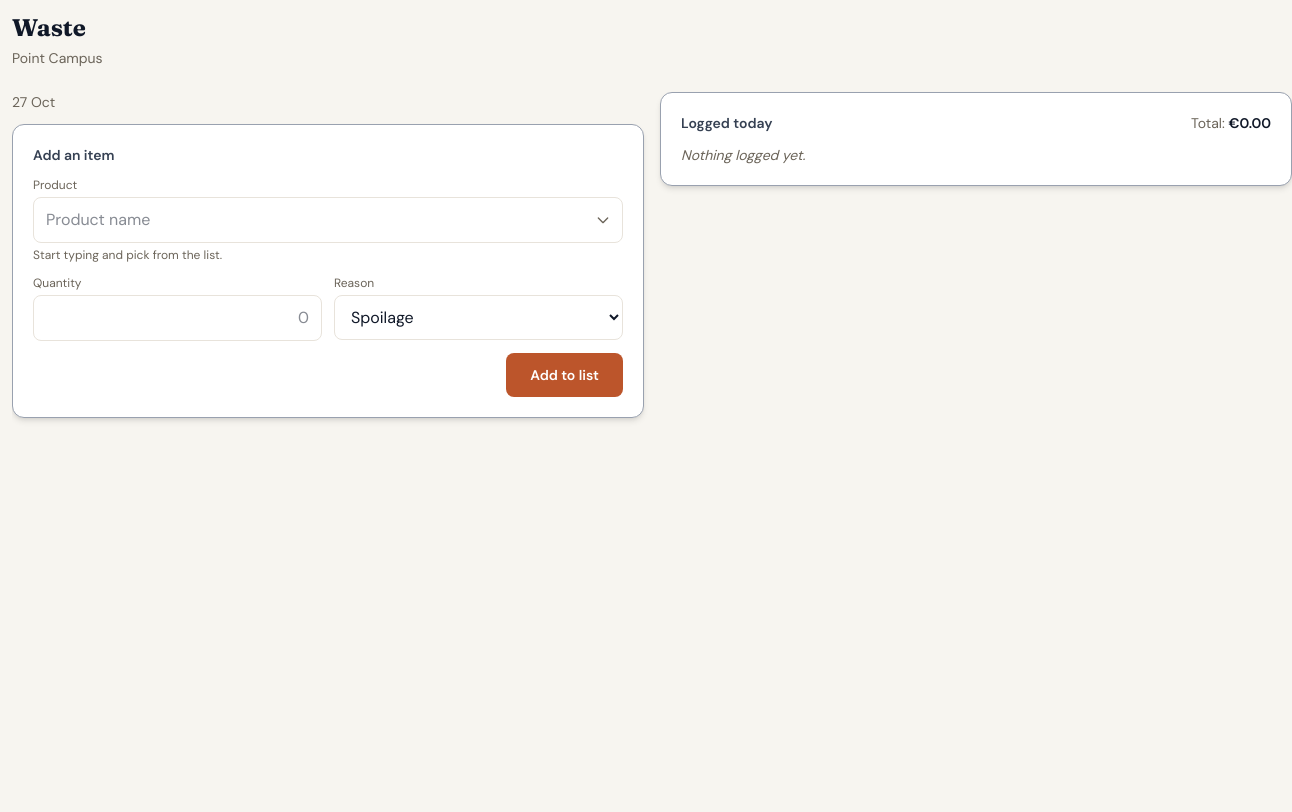
it: picking a product › clears the product once it is on the list
In the dropdown with placeholder "Product name": [328, 220] box [33,197,623,243], type "Tomatoes"
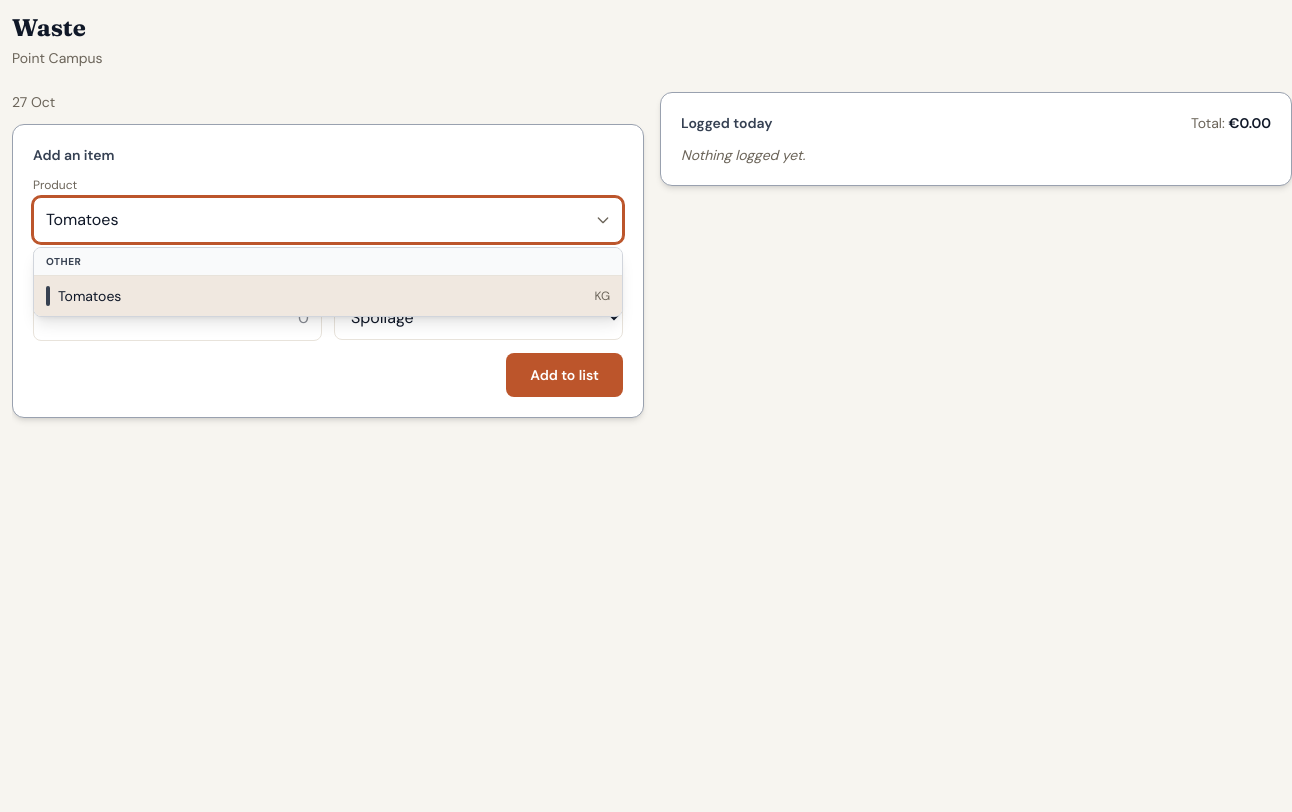
Click the option "Tomatoes KG": [90, 296] box [34,276,622,316]
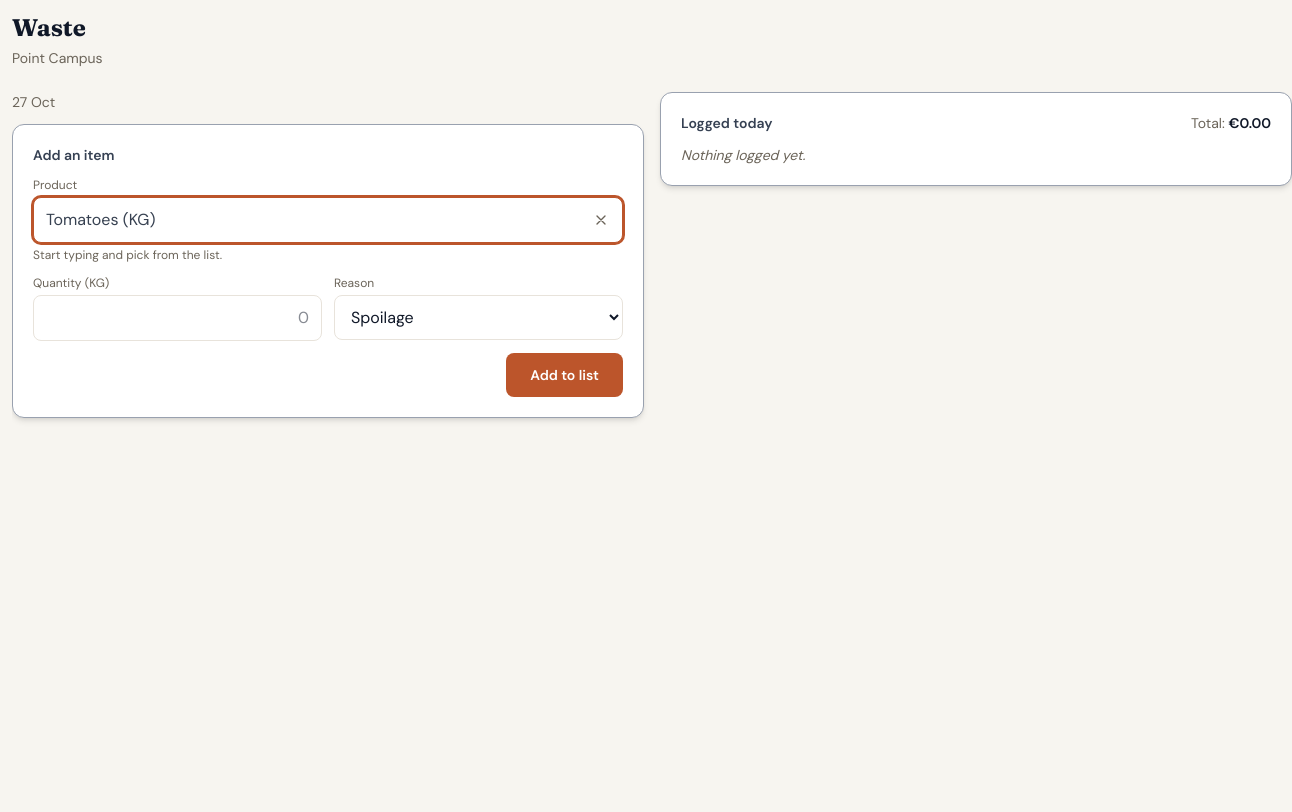
In the field with placeholder "0": [178, 318] box [33,295,322,341], type "1"
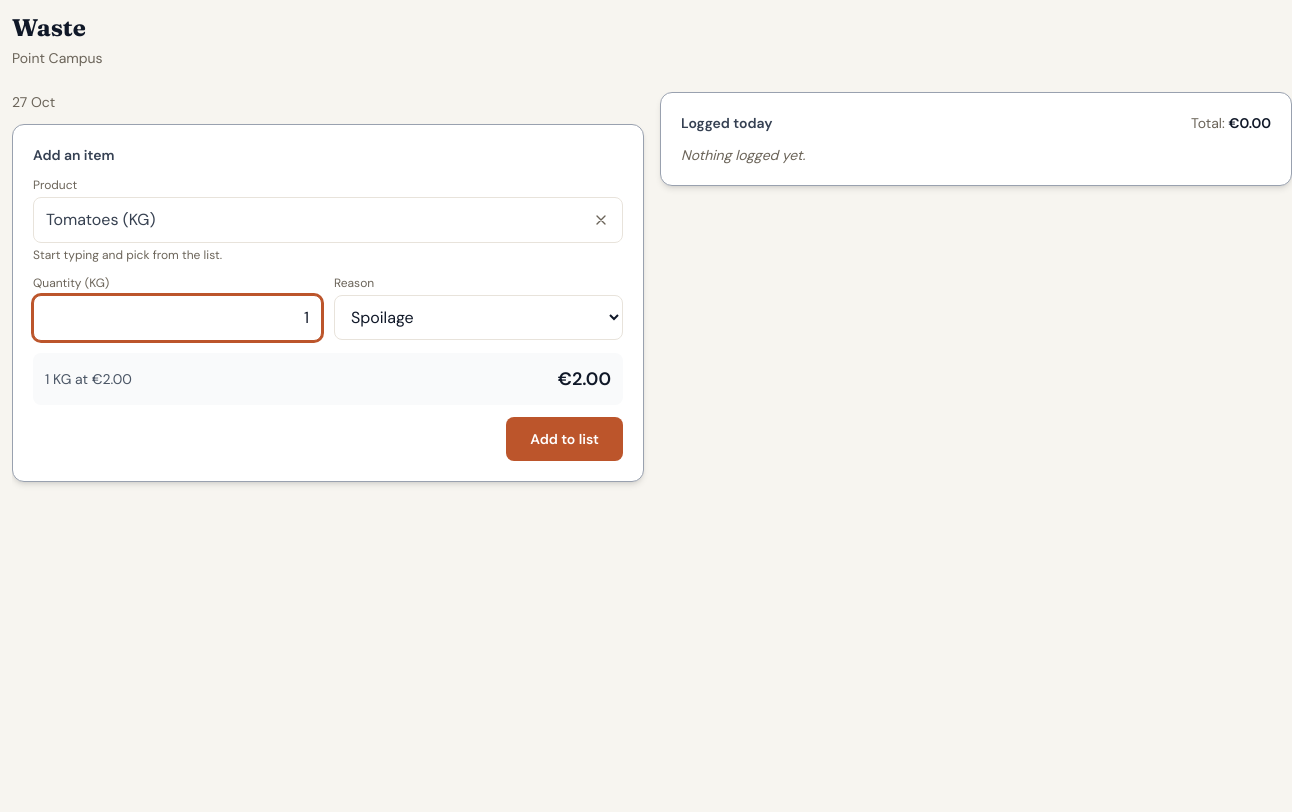
Now the dropdown with placeholder "Product name" below "Product" holds "Tomatoes (KG)", box [33,197,623,243]
Click the button "Add to list": [565, 439] box [506,417,623,461]
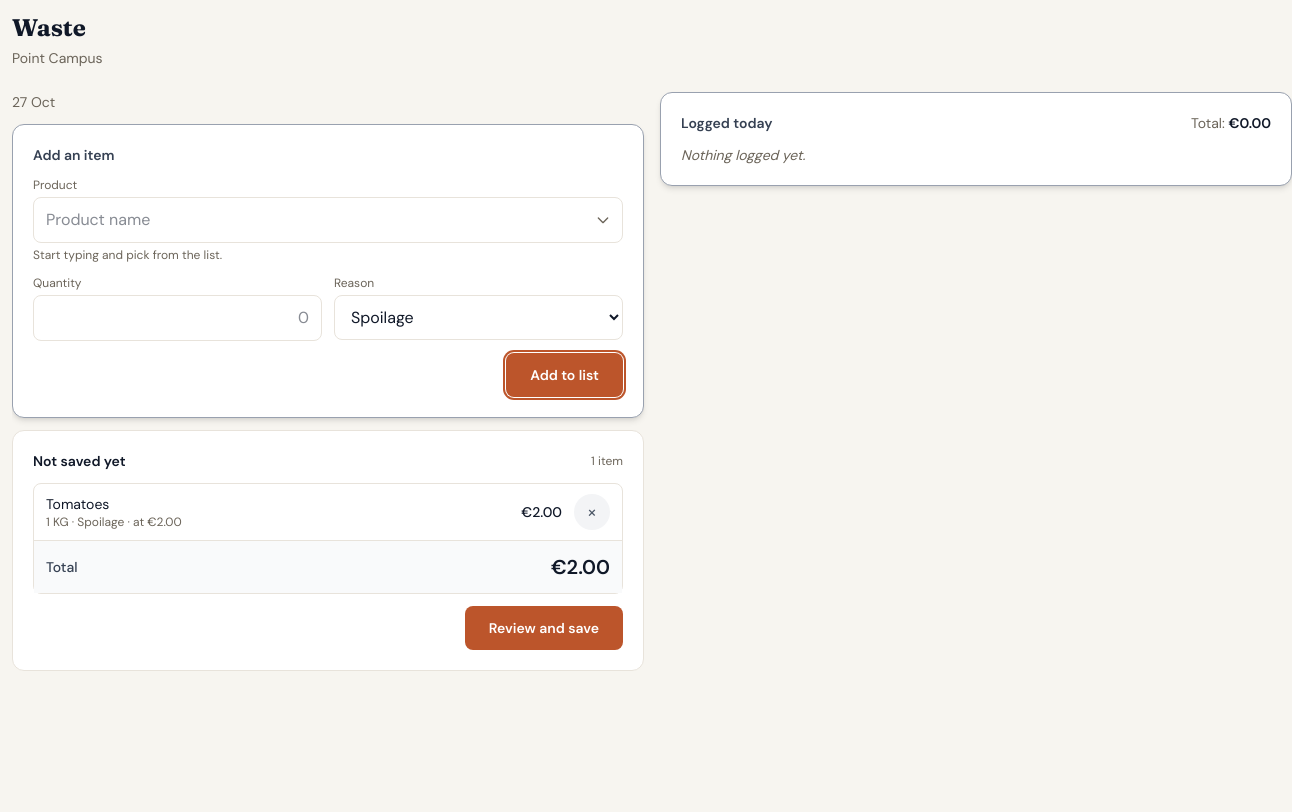
Now the dropdown with placeholder "Product name" is empty, box [33,197,623,243]
Now the field with placeholder "0" is empty, box [33,295,322,341]
Now the heading "Not saved yet" is shown, box [33,451,126,471]
